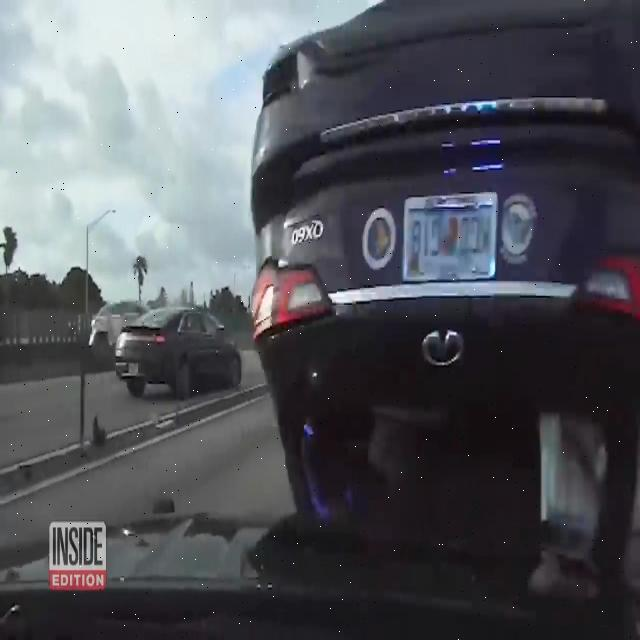accident: (258, 0, 640, 535)
